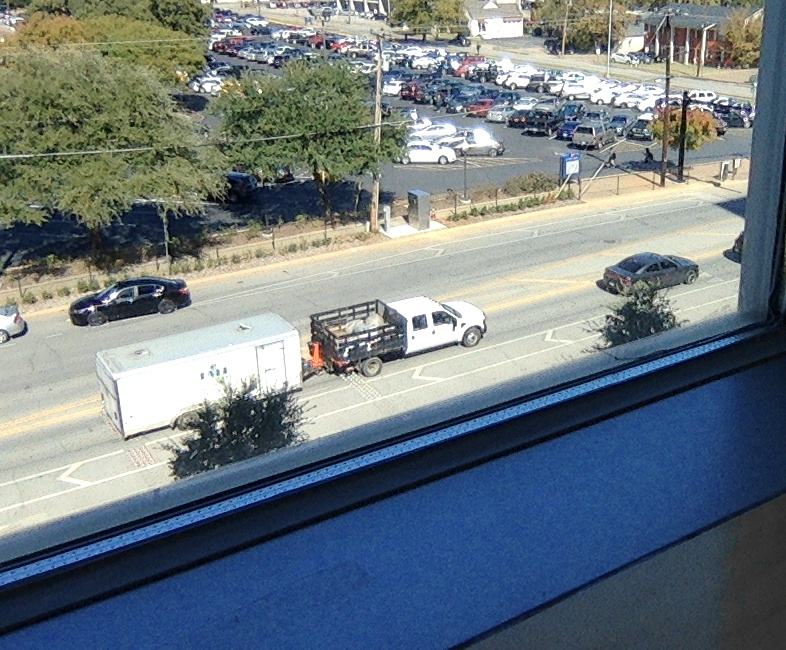car: (300, 300, 486, 383)
